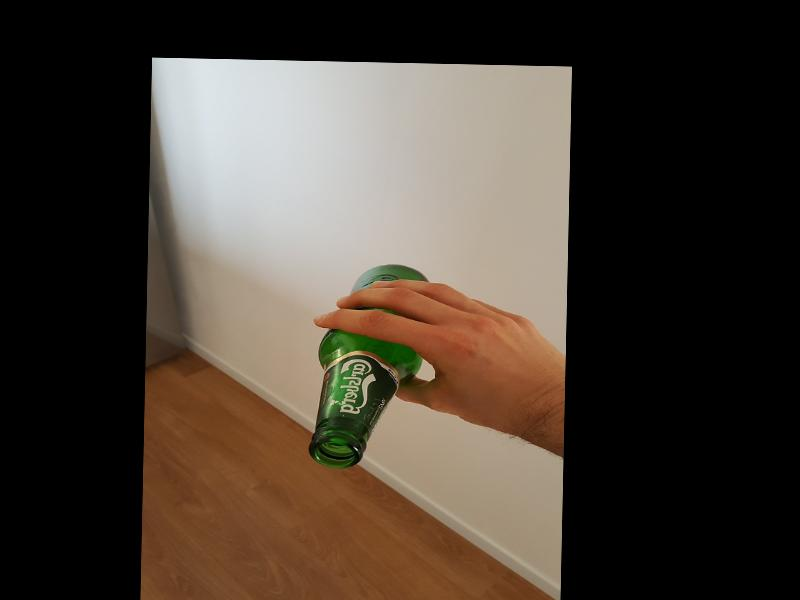Beer: (309, 263, 424, 470)
